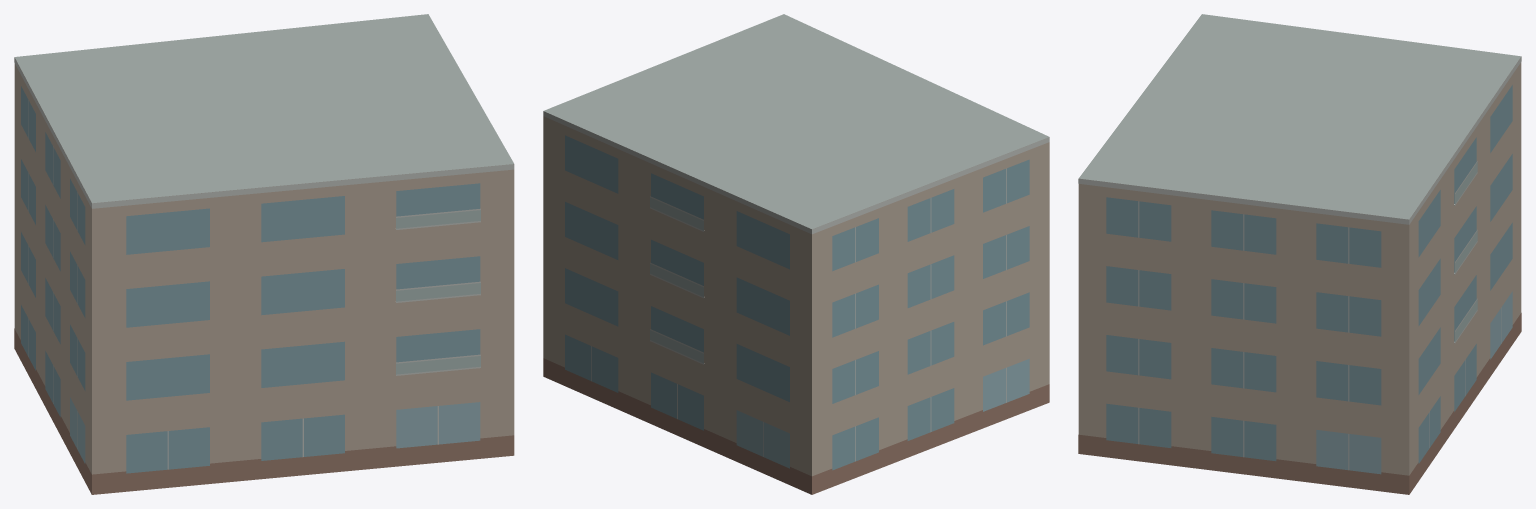
The model's file is survey-upis-32880972.glb.
3 views of the same model, side by side, from view 1: azimuth 30°, elevation 25°; view 2: azimuth 150°, elevation 25°; view 3: azimuth 270°, elevation 25° (orthographic). The views are drawn at different scales.
Parts seen in each view (by area): view 1: survey-upis-32880972.tmp; view 2: survey-upis-32880972.tmp; view 3: survey-upis-32880972.tmp.
Boxes of the visible parts, x1,y1,x2,y2 form: survey-upis-32880972.tmp: (14,14,514,494); survey-upis-32880972.tmp: (543,14,1049,494); survey-upis-32880972.tmp: (1078,14,1521,494).
Bounding box in the file's own units: 20.51 × 12.8 × 18.67.
